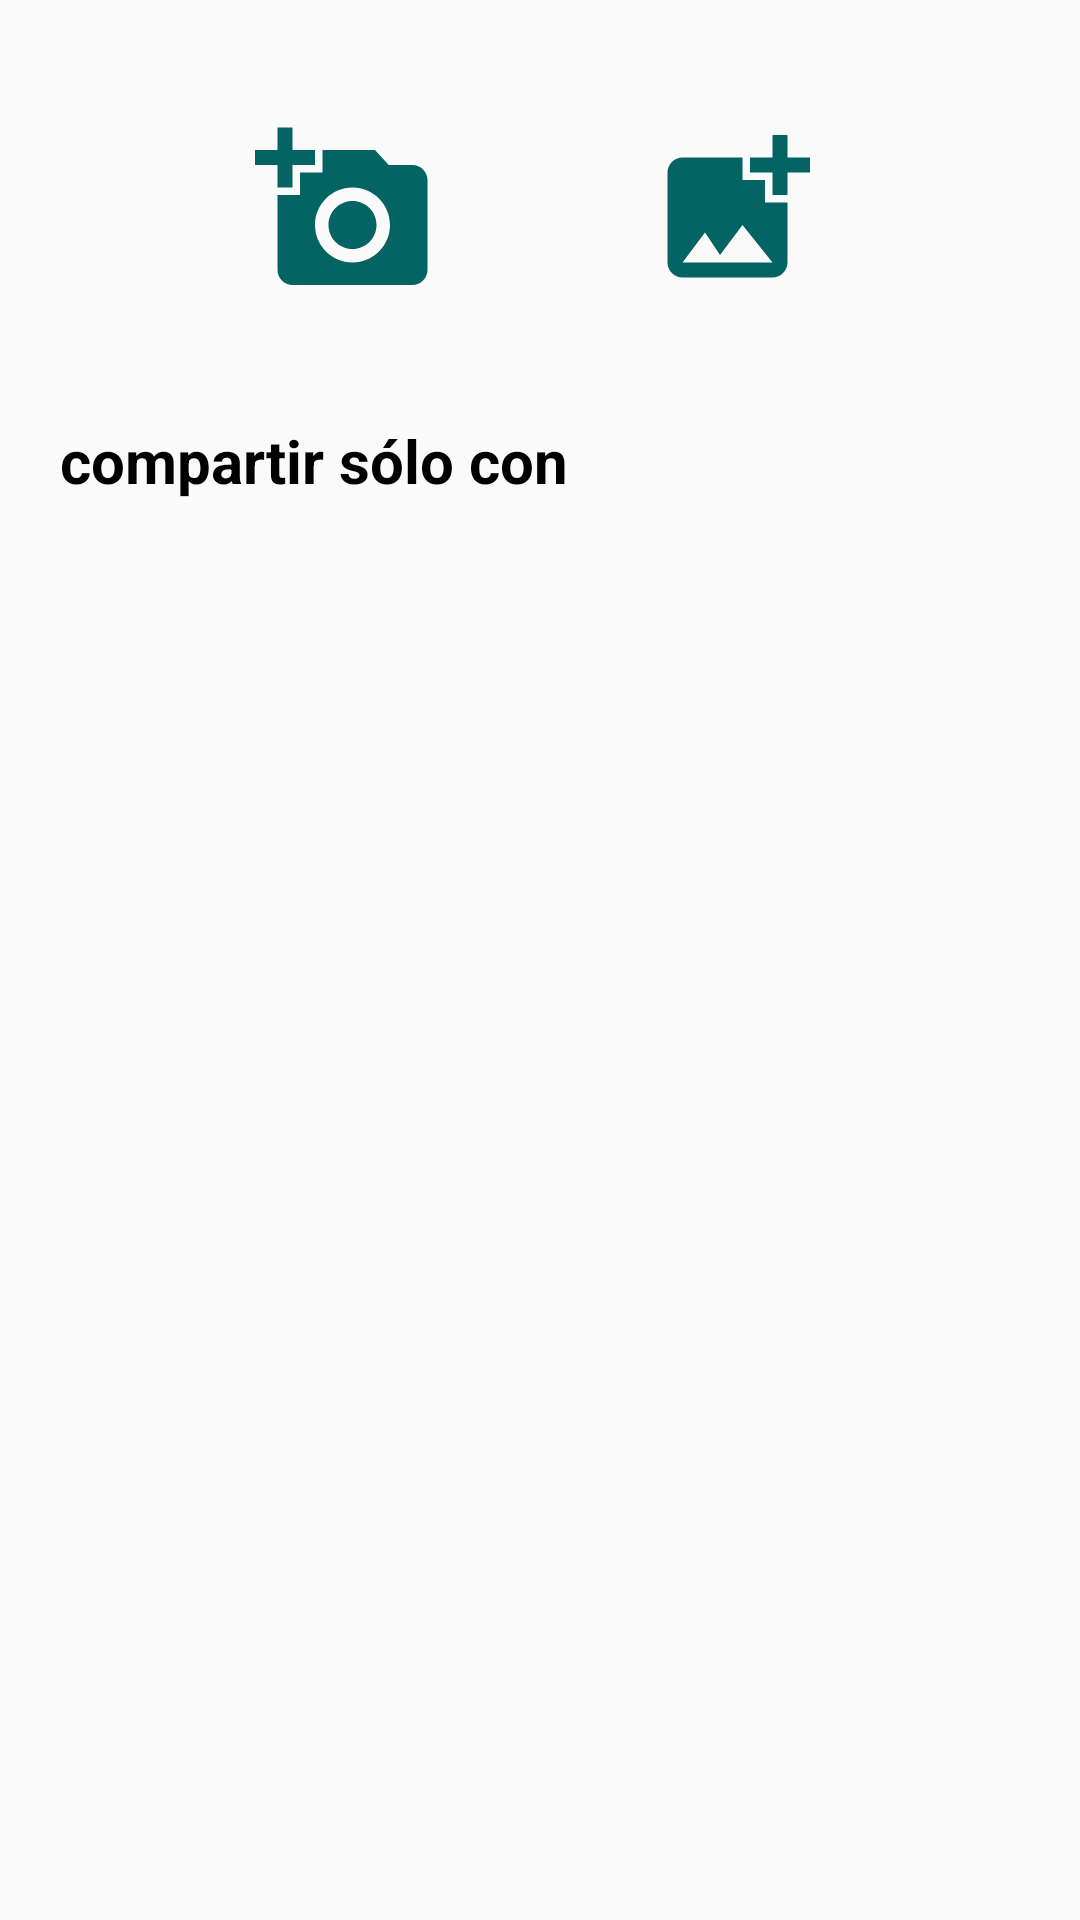

Icons on this 1080w x 1920h Android screen, each with its box as [left=x1, top=y1, right=x2, bottom=y2]:
add photo: [left=667, top=135, right=810, bottom=278]
take photo: [left=255, top=127, right=428, bottom=285]
